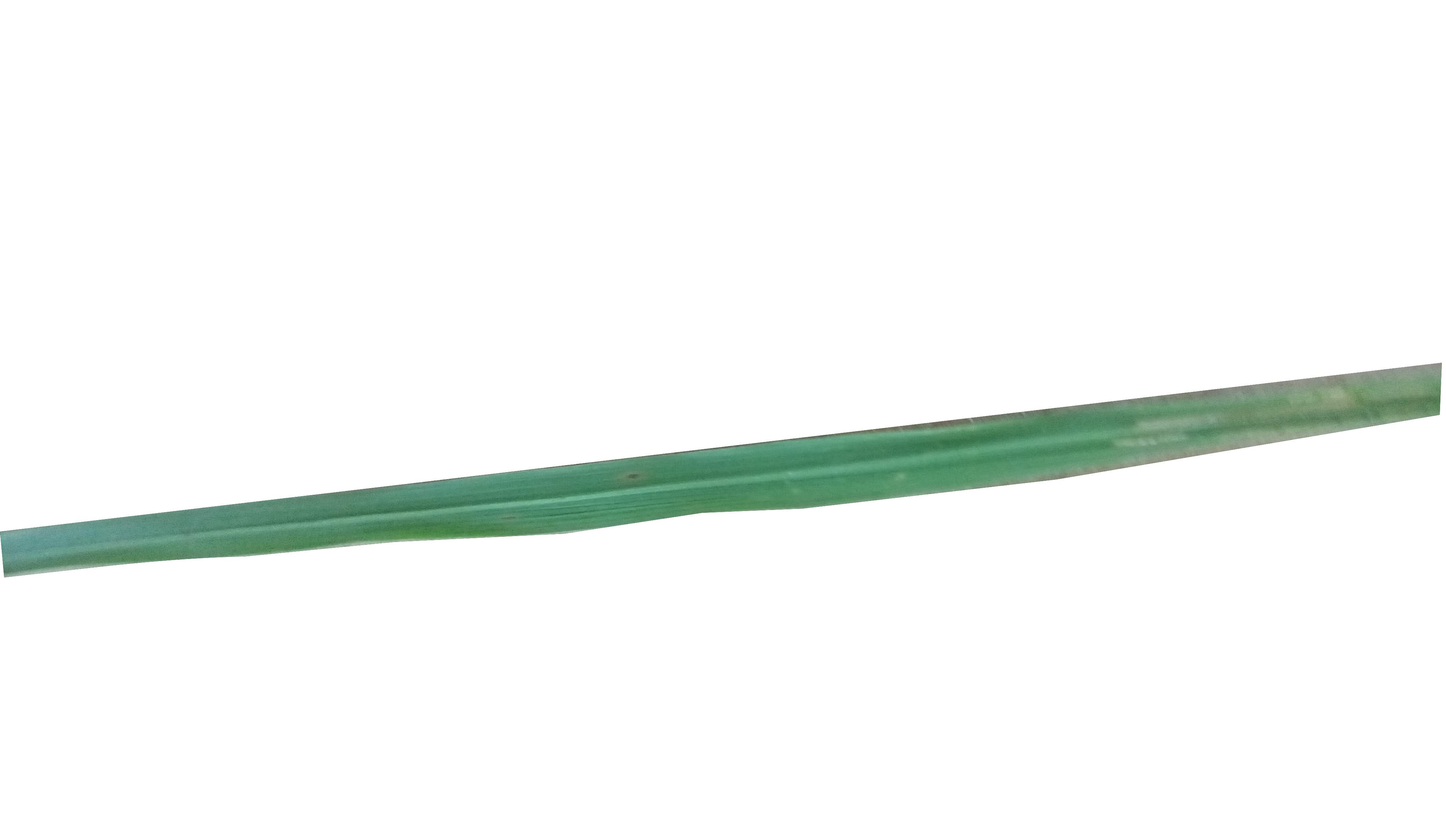Brown spot: (617, 464, 645, 487)
